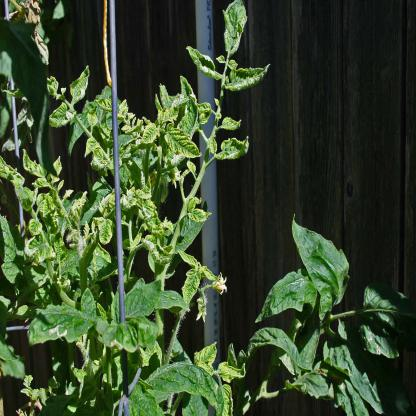tomato leaf yellow virus: (23, 292, 99, 349), (112, 275, 166, 325), (131, 179, 167, 238), (222, 60, 276, 98), (212, 133, 257, 168), (160, 125, 201, 163), (220, 0, 247, 55), (177, 261, 207, 307), (21, 142, 49, 183), (70, 63, 92, 105), (26, 235, 57, 264), (187, 198, 217, 225), (138, 118, 163, 150), (155, 100, 182, 127), (94, 215, 115, 249), (35, 190, 59, 217), (48, 103, 70, 131), (219, 113, 245, 133), (28, 218, 46, 240)
